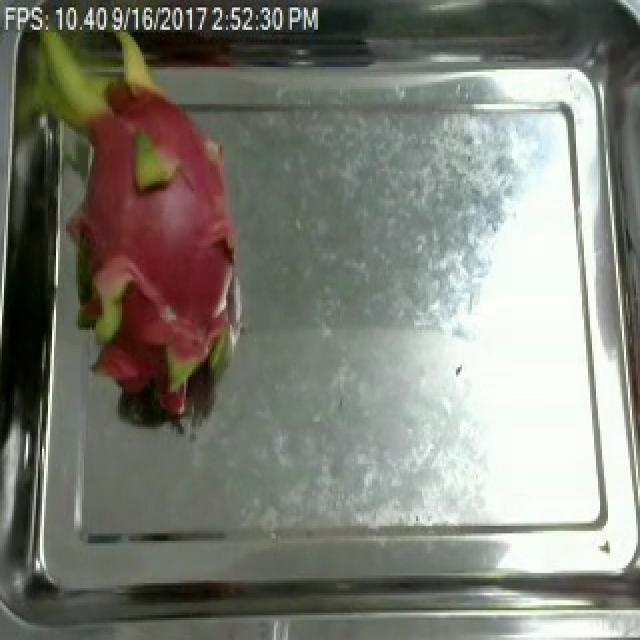fruit: (22, 12, 252, 436)
